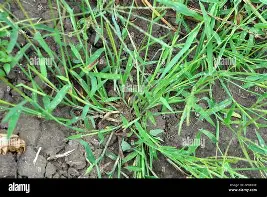weed: (0, 0, 266, 177)
